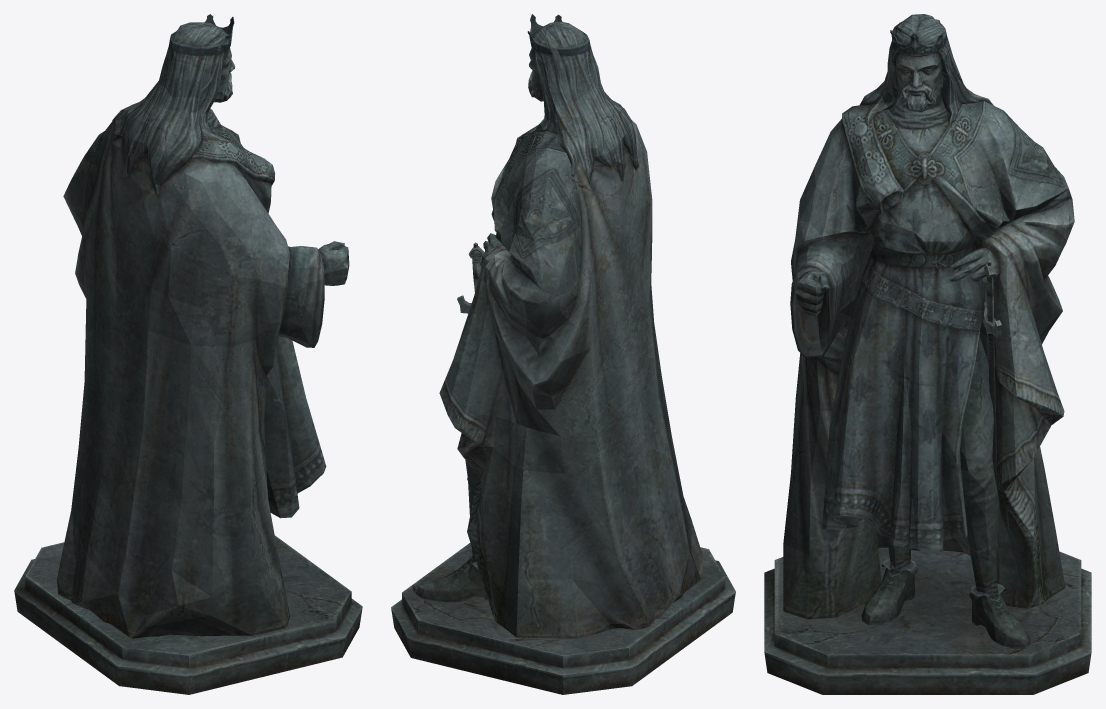
The model's file is bg_lut_lucastle_herostatue10_sm_artree.FBX.
3 views of the same model, side by side, from view 1: azimuth 30°, elevation 25°; view 2: azimuth 150°, elevation 25°; view 3: azimuth 270°, elevation 25° (orthographic). The views are drawn at different scales.
Parts seen in each view (by area): view 1: bg_lut_lucastle_herostatue10_sm_artree; view 2: bg_lut_lucastle_herostatue10_sm_artree; view 3: bg_lut_lucastle_herostatue10_sm_artree.
Boxes of the visible parts, left/top/right/bottom form: bg_lut_lucastle_herostatue10_sm_artree: left=14, top=14, right=362, bottom=694; bg_lut_lucastle_herostatue10_sm_artree: left=391, top=14, right=735, bottom=694; bg_lut_lucastle_herostatue10_sm_artree: left=764, top=14, right=1091, bottom=694.
Bounding box in the file's own units: 142 × 332 × 158.
